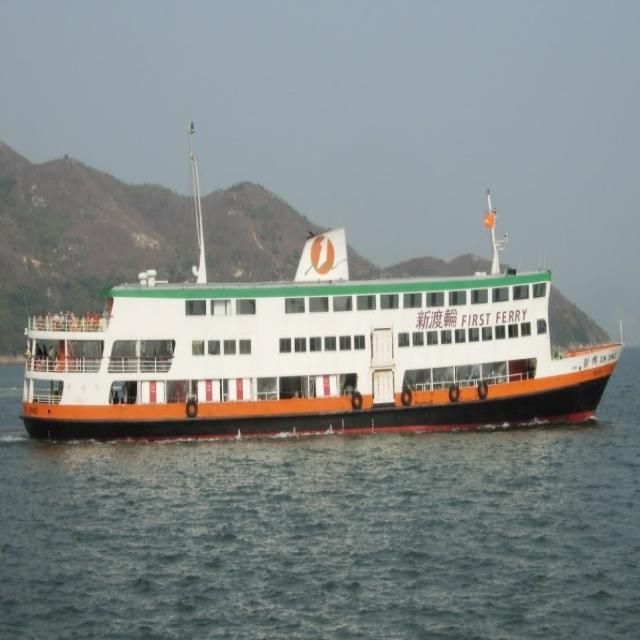passenger ship: (24, 225, 610, 447)
